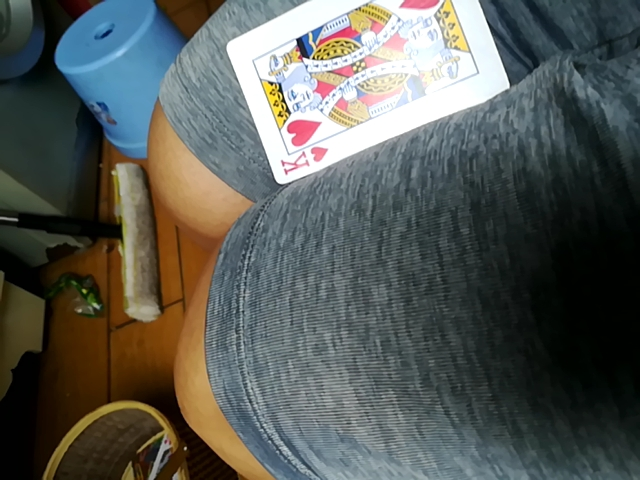hx k: (221, 1, 511, 186)
